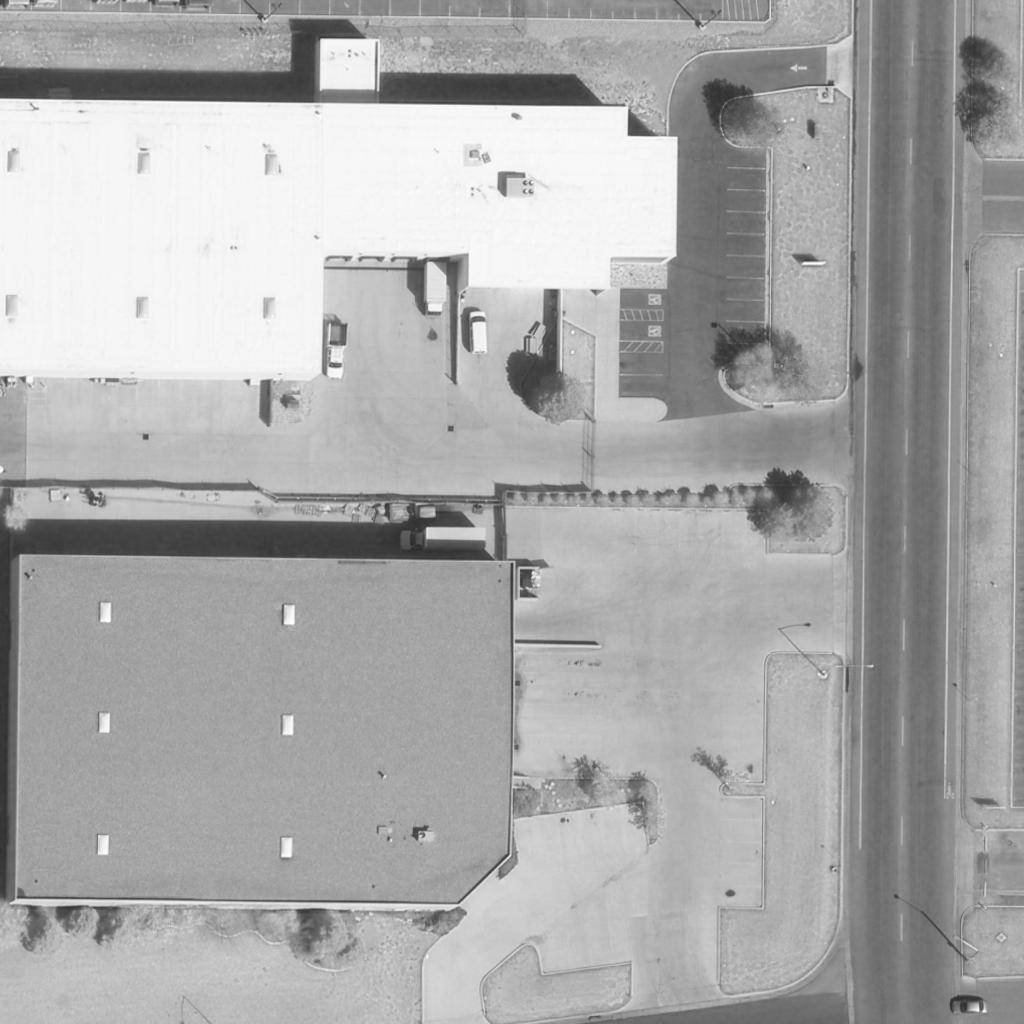vehicle: (399, 527, 487, 553), (422, 259, 450, 319), (324, 323, 350, 381), (469, 312, 489, 356), (949, 999, 989, 1015)
